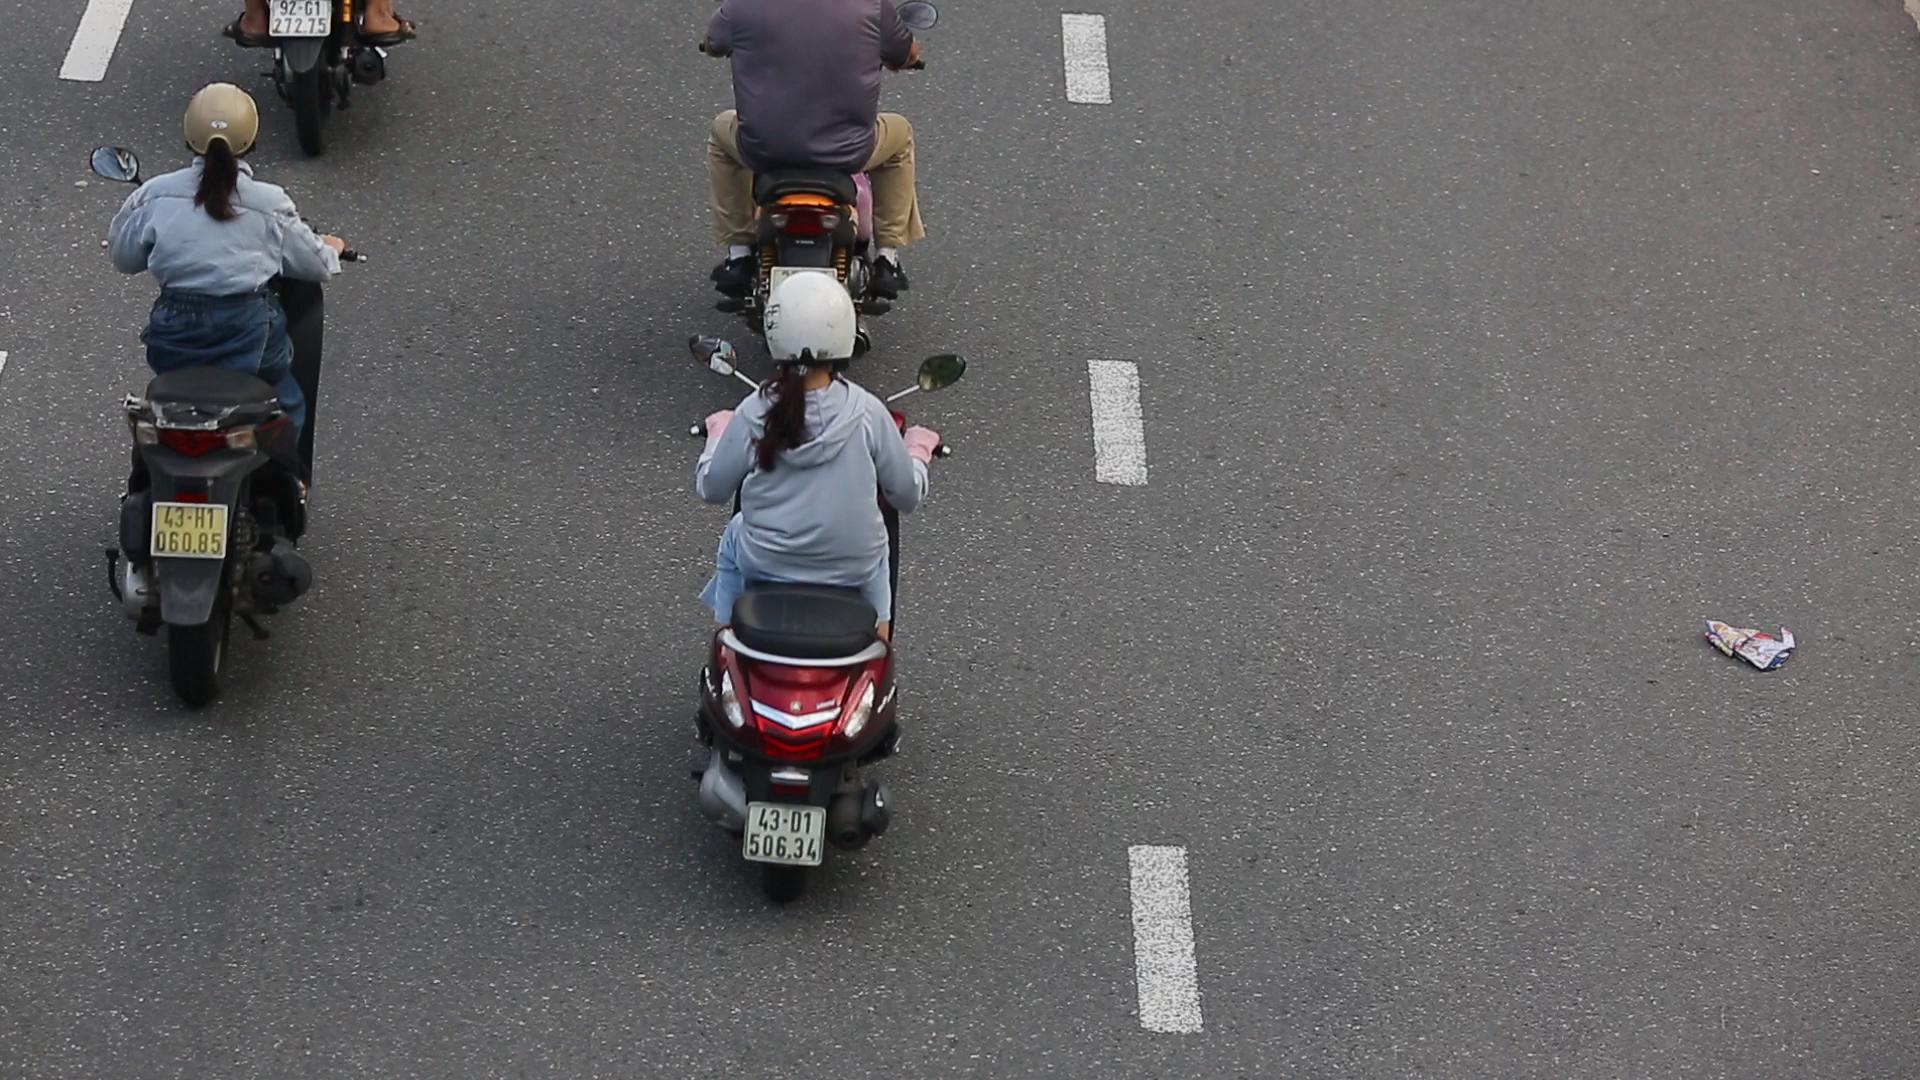motobike: (54, 75, 359, 719), (674, 280, 969, 914)
